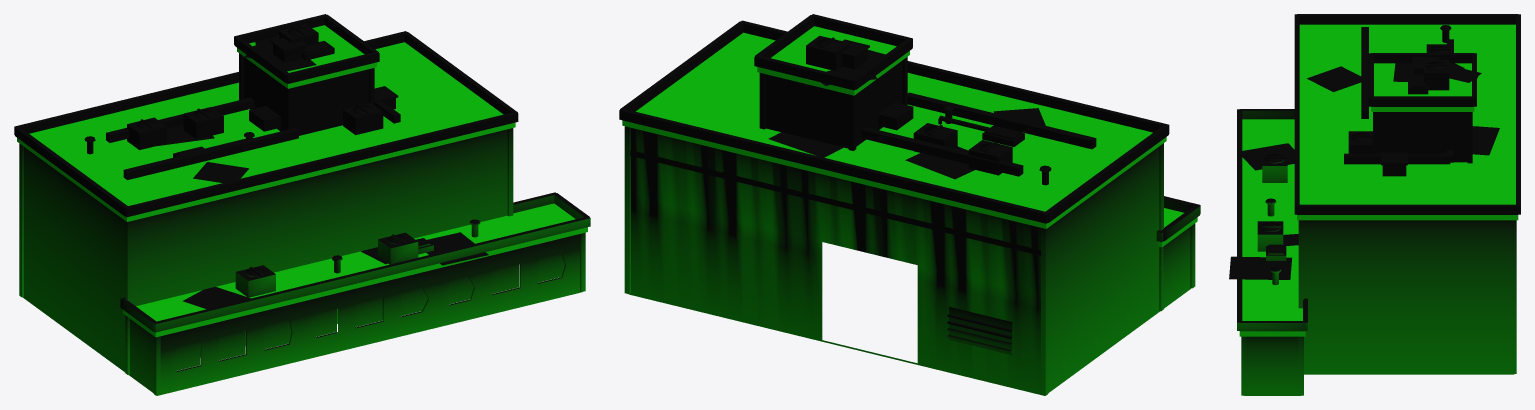
File: factorylg.glb
3 views of the same model, side by side, from view 1: azimuth 30°, elevation 25°; view 2: azimuth 150°, elevation 25°; view 3: azimuth 270°, elevation 25° (orthographic). The views are drawn at different scales.
Visible parts, largest first — view 1: lod0; view 2: lod0; view 3: lod0.
Part boxes in pixels (x1,y1,x2,y2): lod0: [14, 14, 590, 395]; lod0: [619, 14, 1200, 395]; lod0: [1229, 14, 1520, 395].
Size of what is drawn, in the model's own units: 30 by 15.64 by 17.28.
